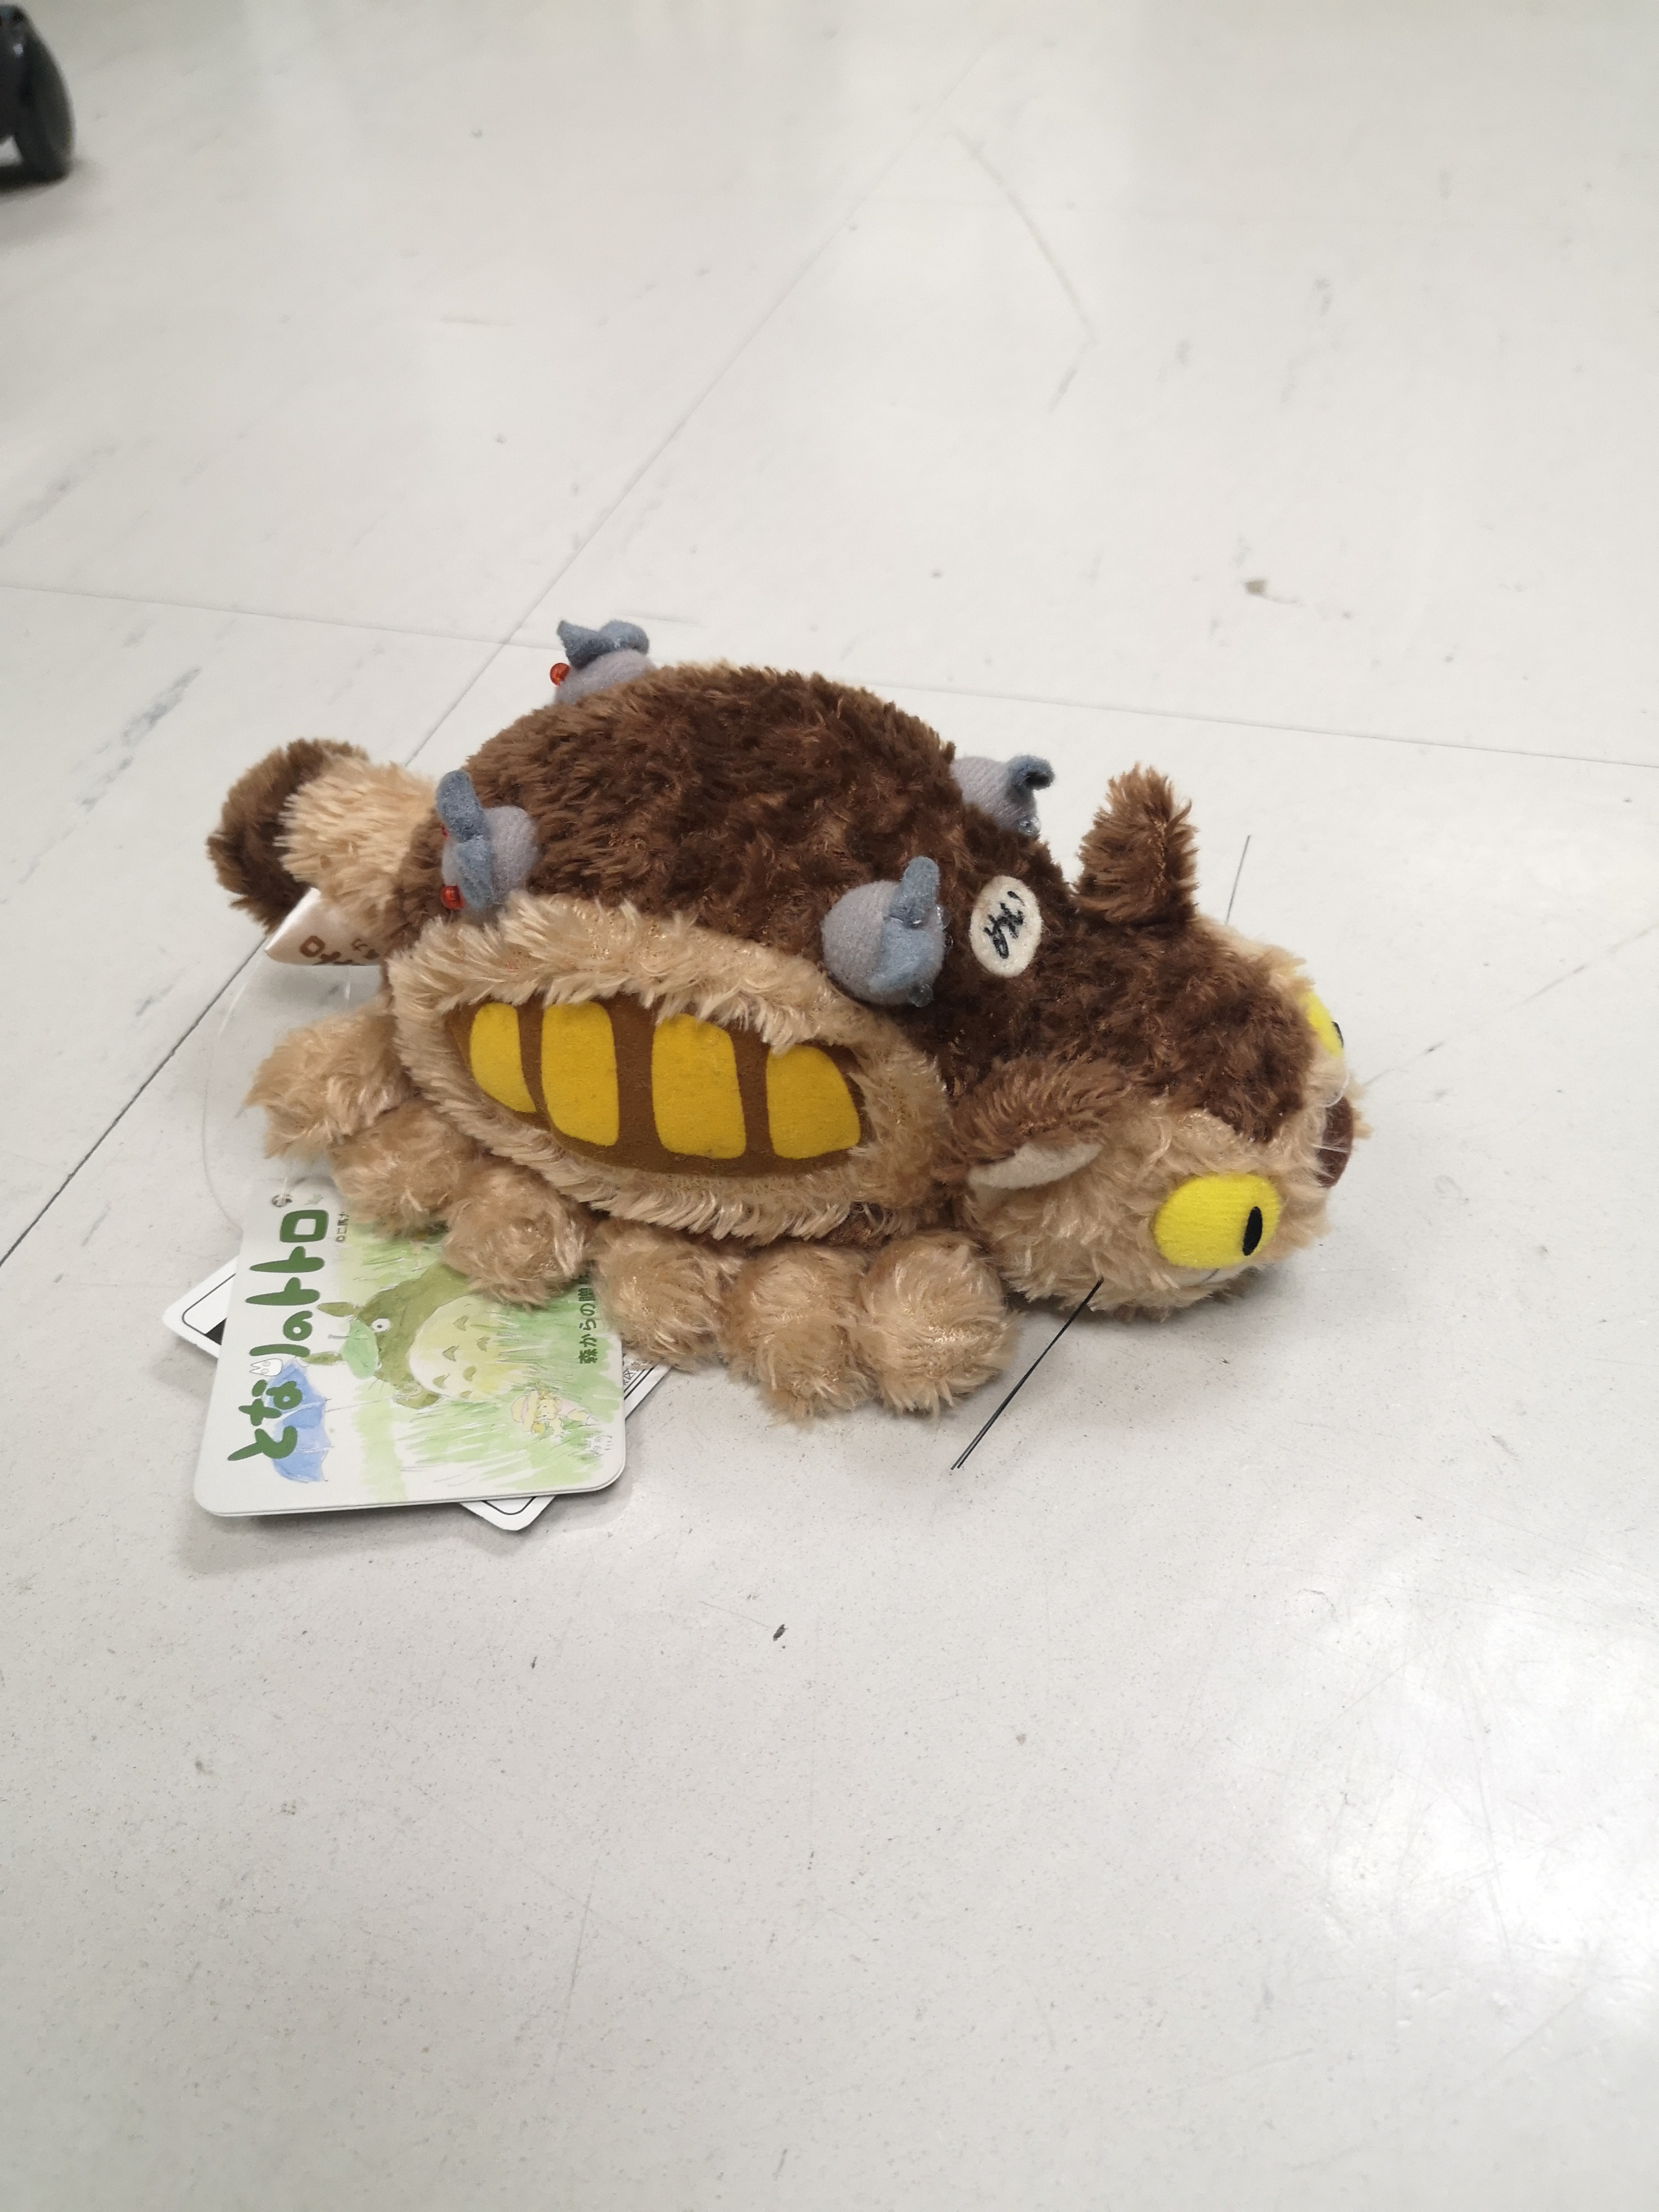nekobus: (202, 610, 1380, 1470)
